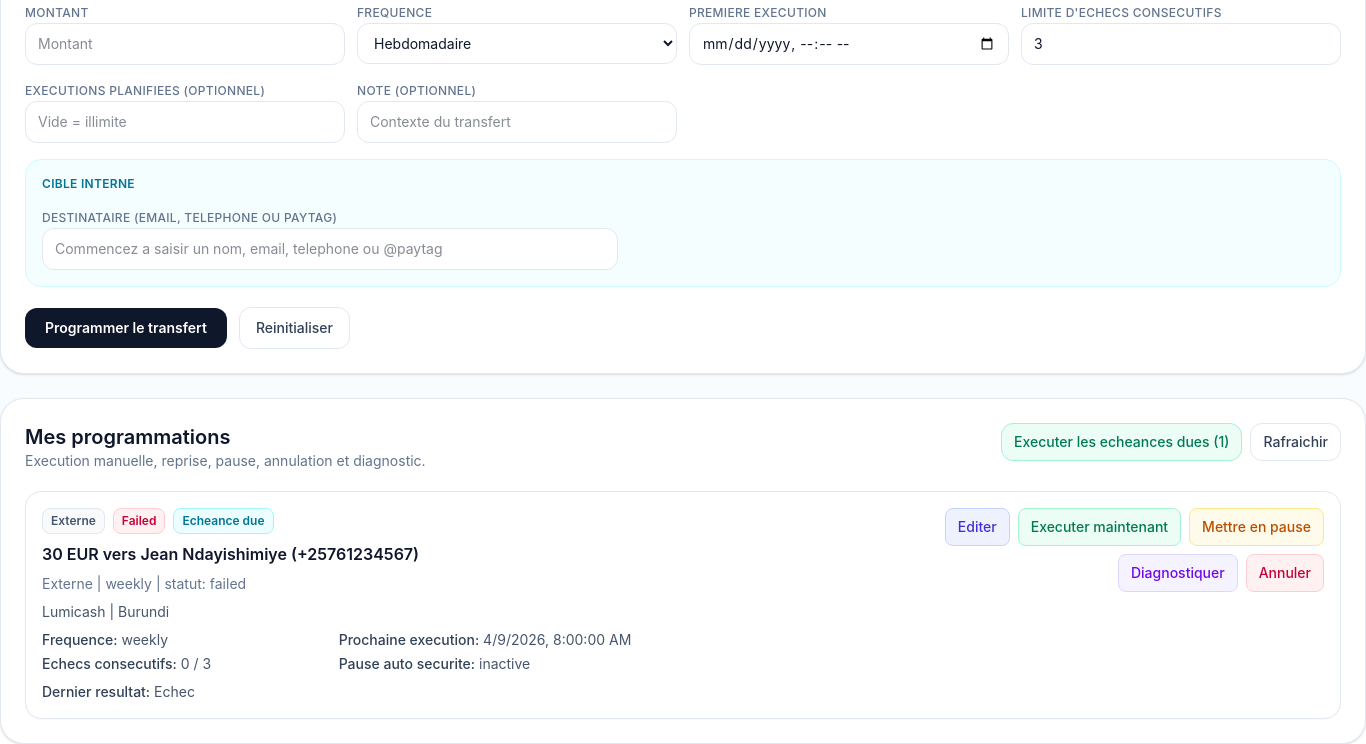
ScheduledTransfersPage › shows scheduled transfer diagnostic on demand
This screenshot has width=1366, height=744.
(page scrolled)
Click the button "Diagnostiquer".
click(1178, 573)  # box [1118,554,1238,592]
(page scrolled)
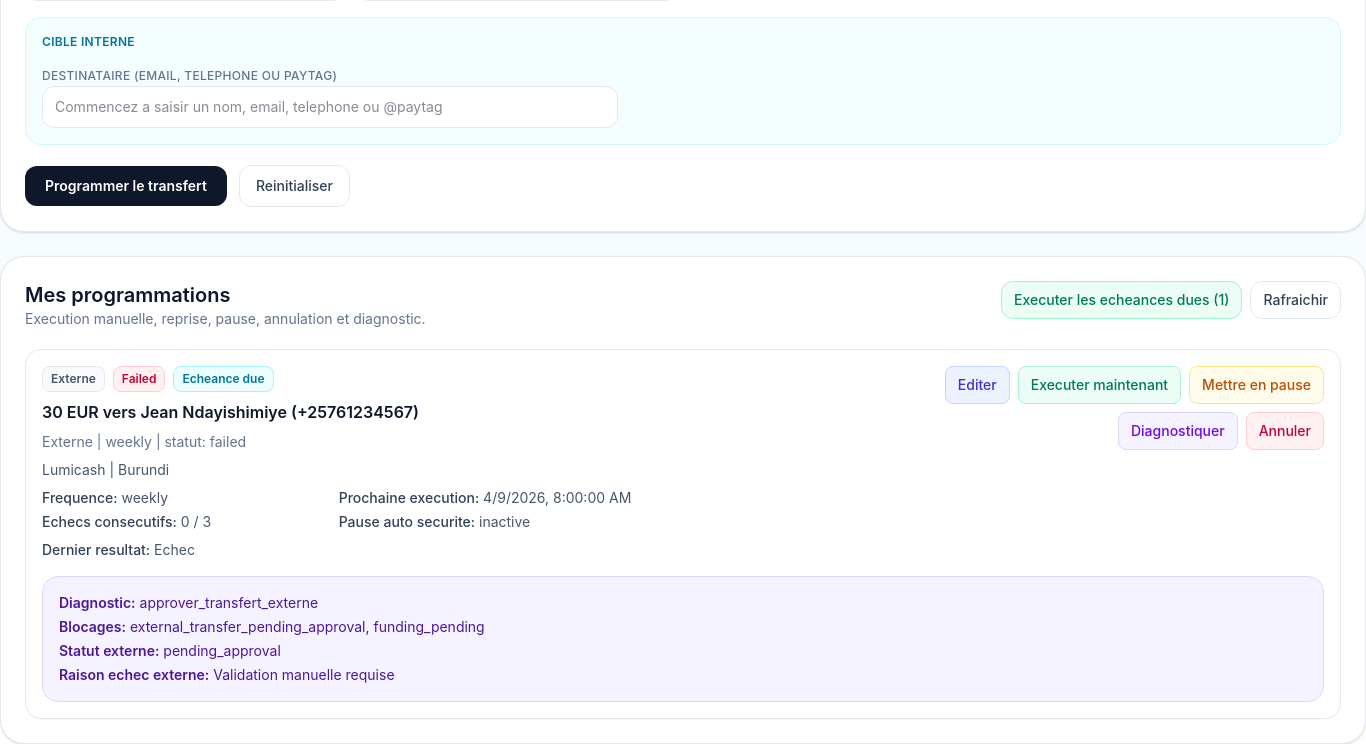
Check: the text "Diagnostic: approver_transfert_externe" is shown, box [59,594,318,611]
Check: the text "pending_approval" is shown, box [130,618,485,635]
